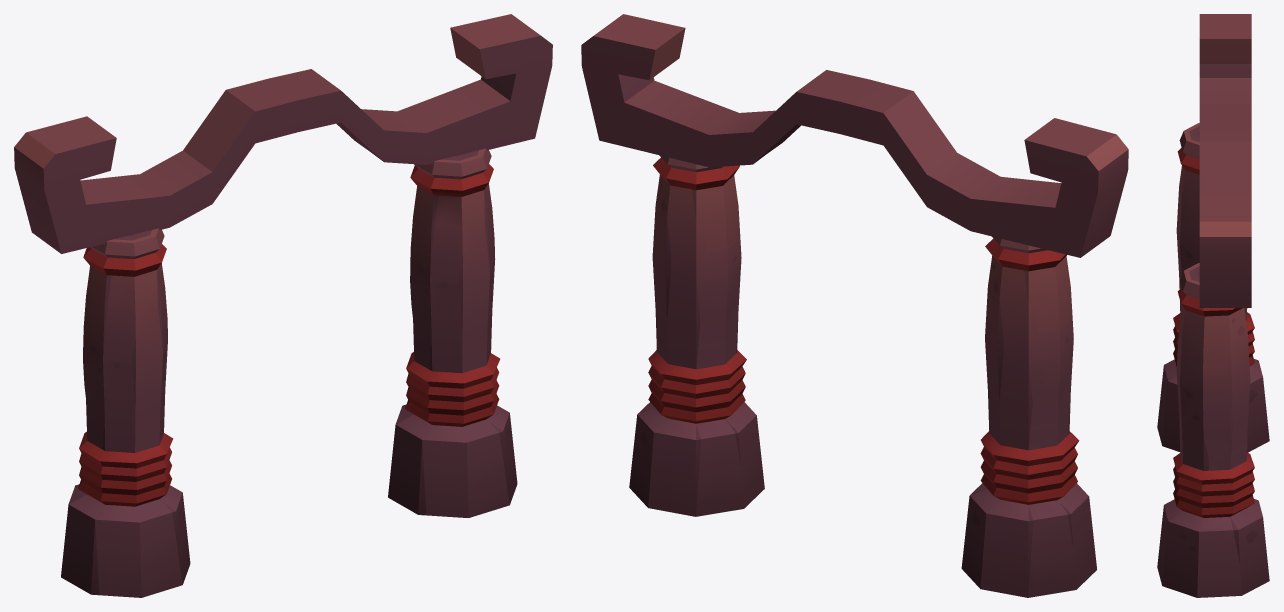
The model's file is arch_2.glb.
The picture shows the model from 3 angles, left to right: view 1: azimuth 30°, elevation 25°; view 2: azimuth 150°, elevation 25°; view 3: azimuth 270°, elevation 25°; orthographic projection. The views are drawn at different scales.
Parts seen in each view (by area): view 1: arch_2; view 2: arch_2; view 3: arch_2.
Boxes of the visible parts, x1,y1,x2,y2 form: arch_2: [14, 14, 552, 597]; arch_2: [581, 14, 1128, 597]; arch_2: [1157, 14, 1269, 597].
Bounding box in the file's own units: 3.7 × 3.07 × 0.8068.
1 material, 1 textured.
